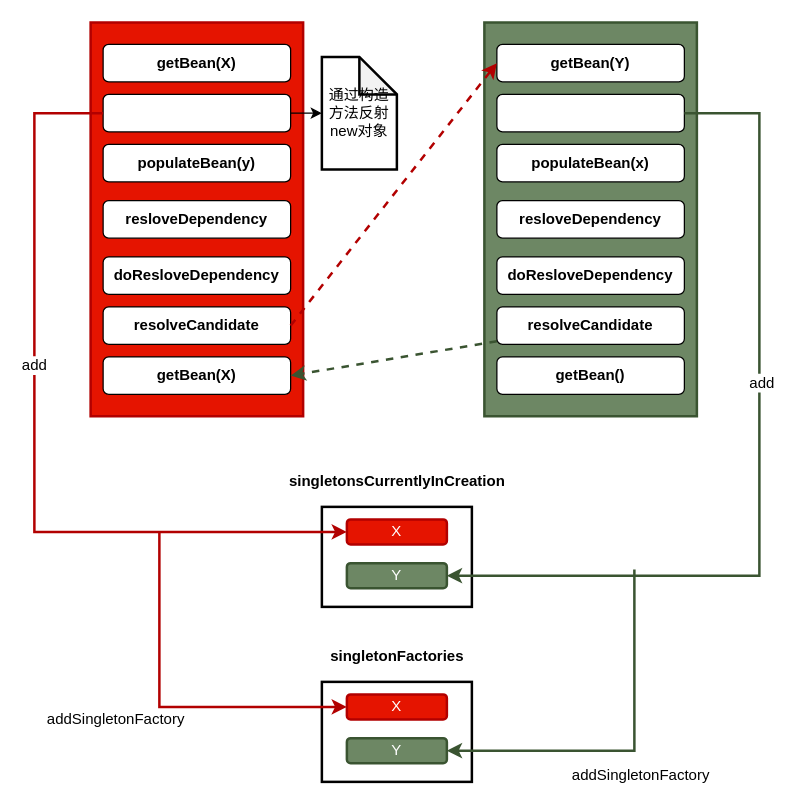
Some shapes in this 795 by 810 pixel diagram are drawn without their labels. Here are the shapes that lost their labels. From the top down, the centre of each, then its label:
point 196,112: doCreateBean(X)
point 590,112: doCreateBean(Y)
